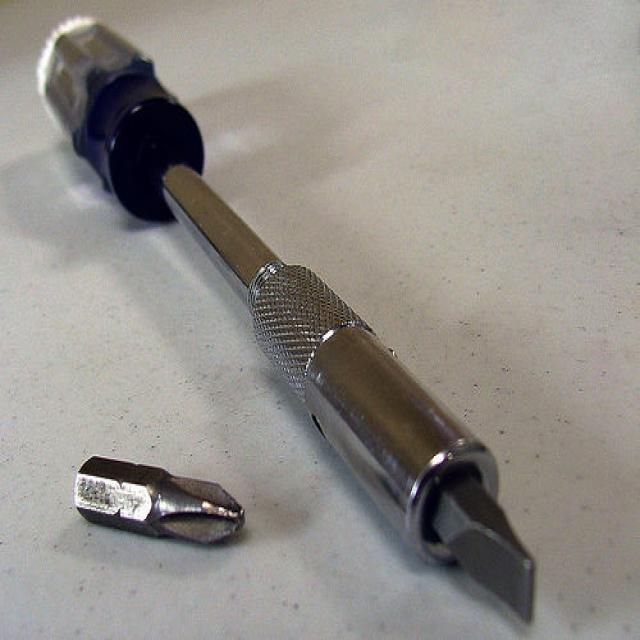screwdriver: (20, 8, 558, 634)
